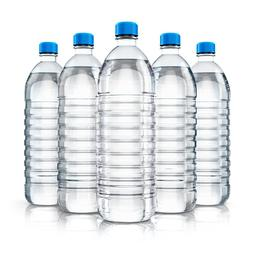plastic: (93, 13, 160, 214), (145, 23, 203, 218), (182, 29, 243, 207), (16, 28, 67, 214), (52, 23, 102, 212)
